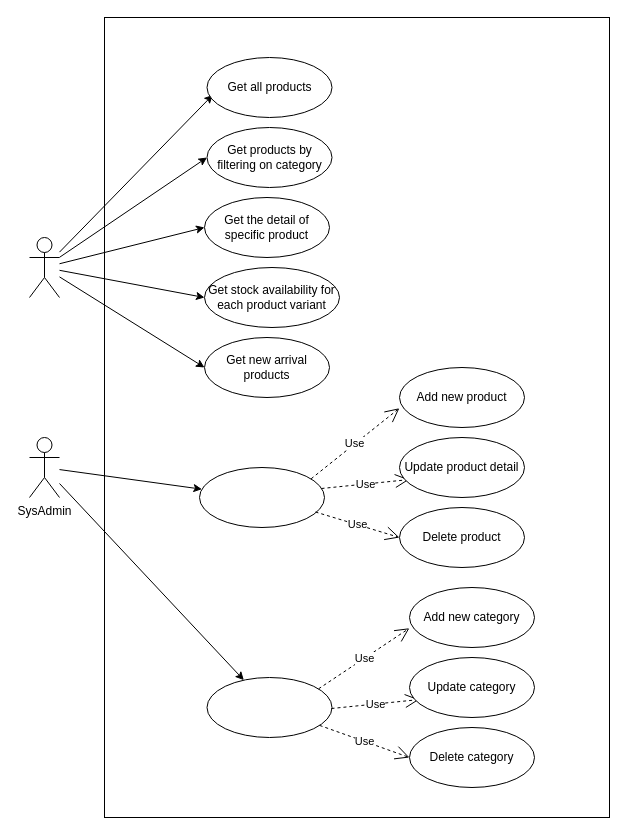
The diagram is 627 pixels wide and 835 high, and some of its shapes have lost their labels. Each missing label, with the centre of its shape:
Buyer: the point at 44,267
Category management: the point at 269,707
Product management: the point at 261,497
